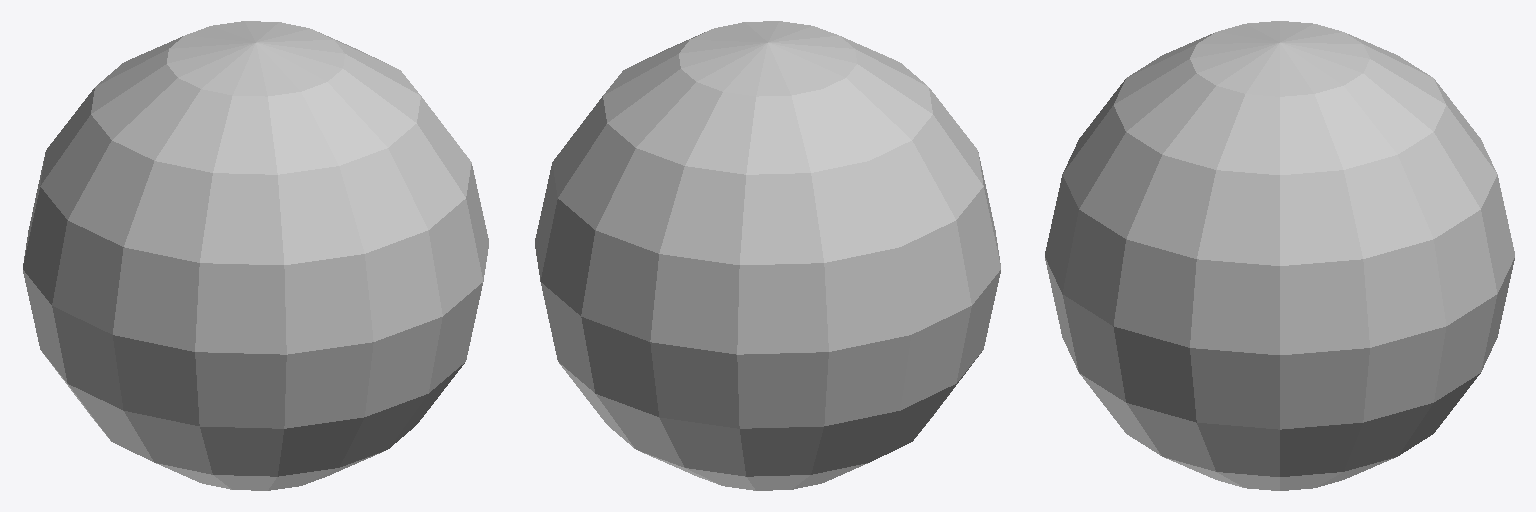
Rendered from bola2.obj.
The picture shows the model from 3 angles: view 1: azimuth 30°, elevation 25°; view 2: azimuth 150°, elevation 25°; view 3: azimuth 270°, elevation 25°; orthographic projection.
Visible parts, largest first — view 1: POOL_TABLE.026; view 2: POOL_TABLE.026; view 3: POOL_TABLE.026.
Part boxes in pixels (x1,y1,x2,y2): POOL_TABLE.026: (23,21,488,490); POOL_TABLE.026: (535,21,1000,490); POOL_TABLE.026: (1045,21,1514,490).
Size of the model in its own units: 0.0585 by 0.0585 by 0.0585.